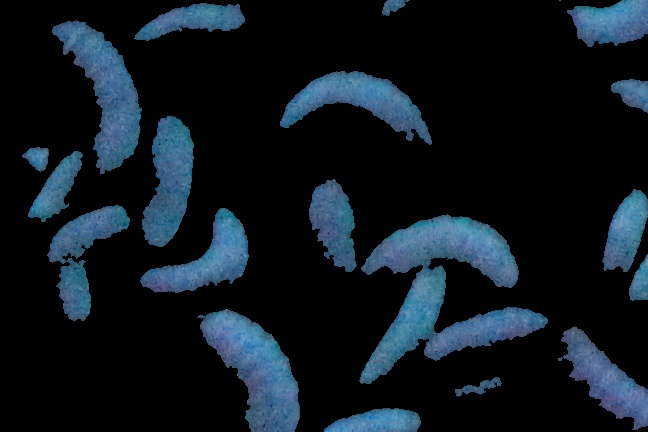larvae: (358, 211, 515, 314), (267, 69, 439, 158), (190, 311, 315, 428), (43, 29, 138, 173), (140, 214, 268, 307), (347, 268, 440, 378), (433, 293, 543, 368), (565, 330, 648, 423), (149, 105, 199, 244), (297, 186, 358, 296), (40, 203, 136, 257), (600, 176, 648, 272), (564, 1, 648, 51), (133, 4, 248, 39), (28, 147, 81, 217), (49, 258, 98, 331), (316, 405, 425, 432)
